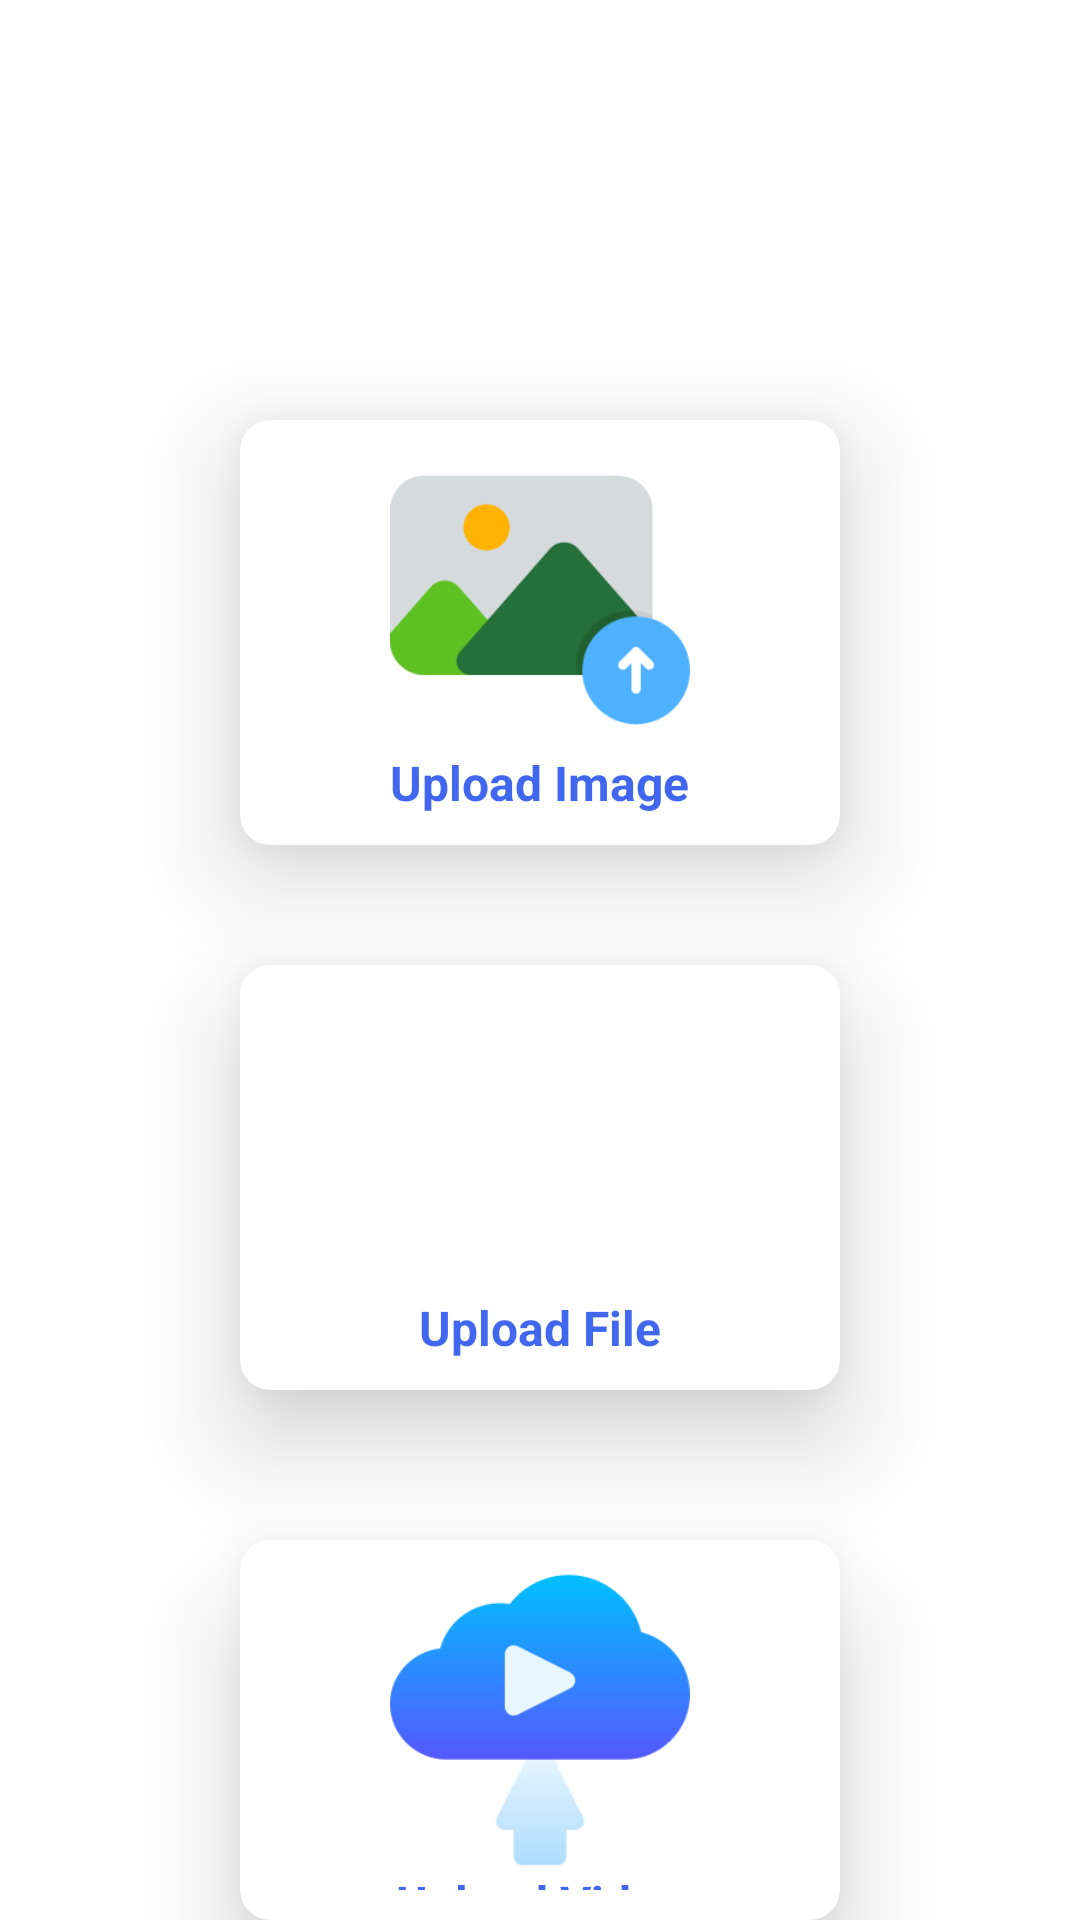

Where to tap for icons on this 1080px x 1920px app screen, as [x,y]:
imgcloud: [540,600]
videocloud: [540,1719]
